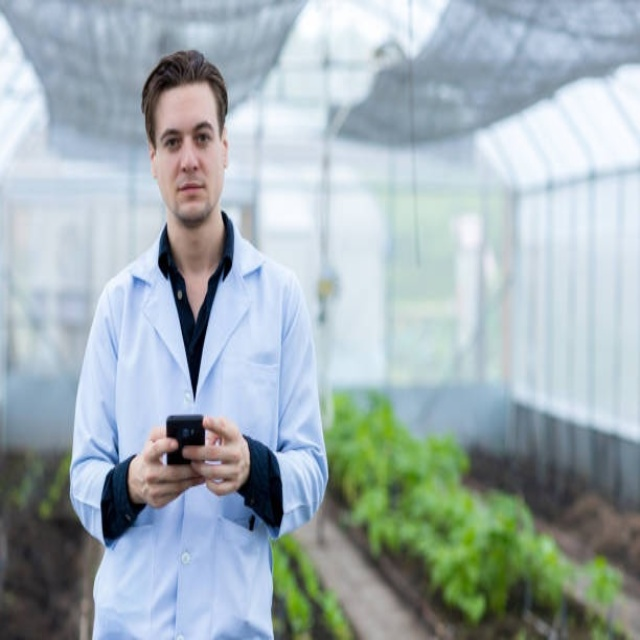Sin_gafas: (159, 115, 219, 151)
Sin_guantes: (183, 403, 252, 496), (135, 423, 207, 511)
Sin_mascara: (176, 176, 207, 210)
